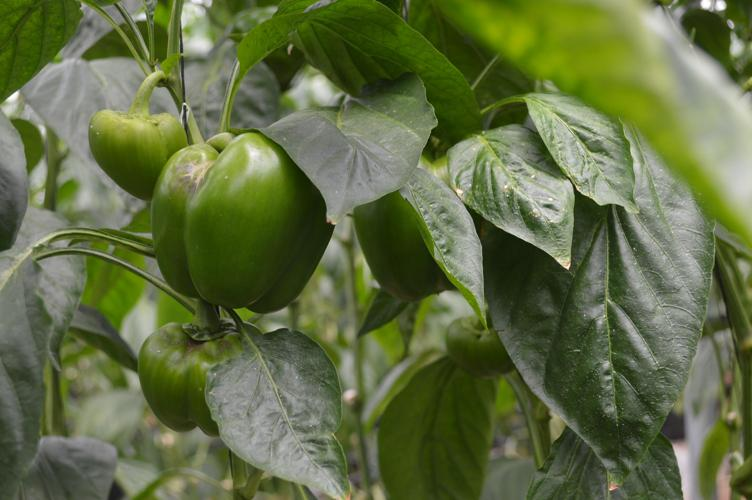BellPepper: (150, 135, 329, 313), (132, 324, 251, 432), (352, 190, 445, 301), (85, 112, 179, 202), (444, 320, 511, 380)
